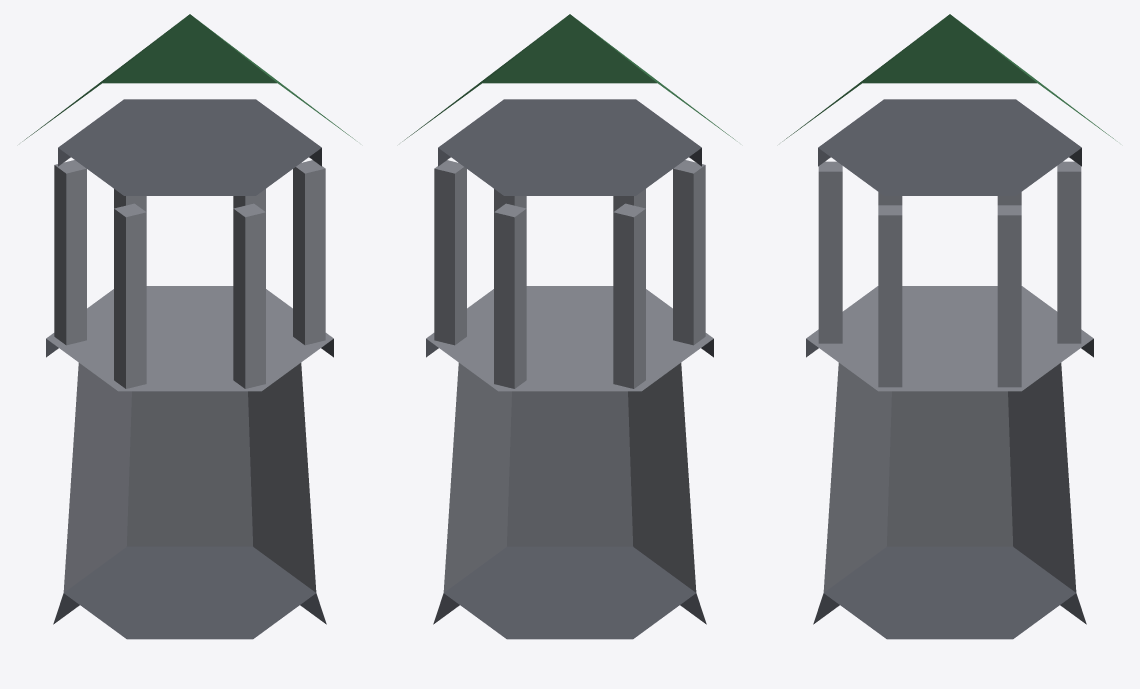
The model's file is wall_tower.glb.
3 views of the same model, side by side, from view 1: azimuth 30°, elevation 25°; view 2: azimuth 150°, elevation 25°; view 3: azimuth 270°, elevation 25° (orthographic).
Parts seen in each view (by area): view 1: wall_tower; view 2: wall_tower; view 3: wall_tower.
Boxes of the visible parts, <box> form: wall_tower: <box>22,14,357,639</box>; wall_tower: <box>402,14,737,639</box>; wall_tower: <box>782,14,1117,639</box>.
Size of the model in its own units: 4.33 by 9.6 by 5.
